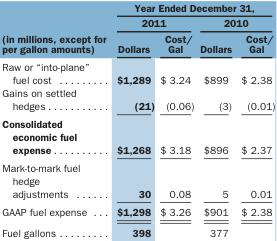table: (1, 1, 274, 238)
table column: (1, 1, 110, 238), (110, 1, 156, 238), (156, 1, 196, 238), (196, 1, 235, 238), (235, 1, 274, 238)
table column header: (1, 1, 274, 57)
table row: (1, 114, 274, 158), (1, 158, 274, 202), (1, 57, 274, 86), (1, 86, 274, 114), (1, 30, 274, 57), (1, 202, 274, 221), (1, 221, 274, 238), (1, 14, 274, 30), (1, 1, 274, 14)
table spanning cell: (1, 1, 110, 57), (110, 1, 274, 14), (110, 14, 196, 30), (196, 14, 274, 30)
